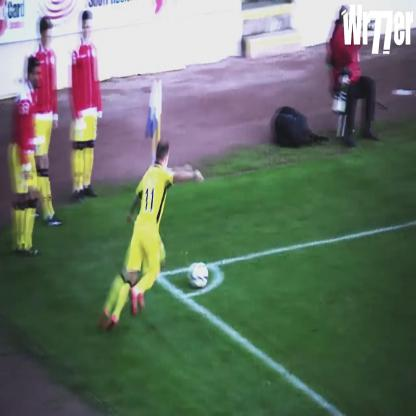corner kick: (121, 58, 235, 362)
